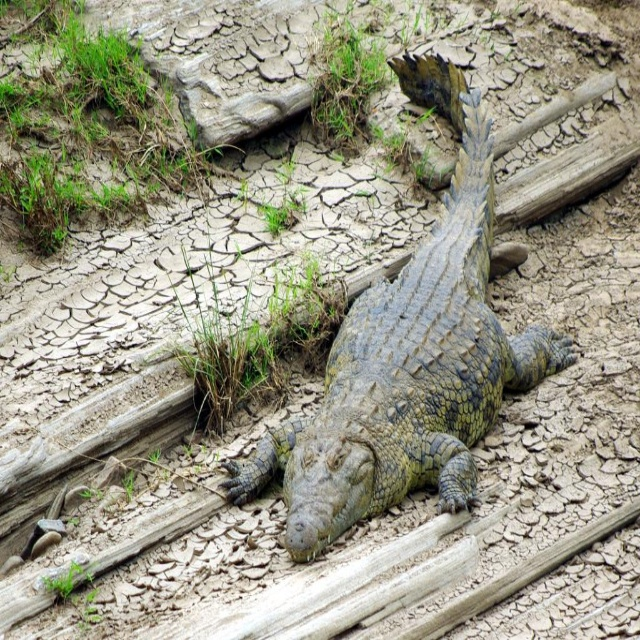Crocodile: (218, 53, 579, 564)
